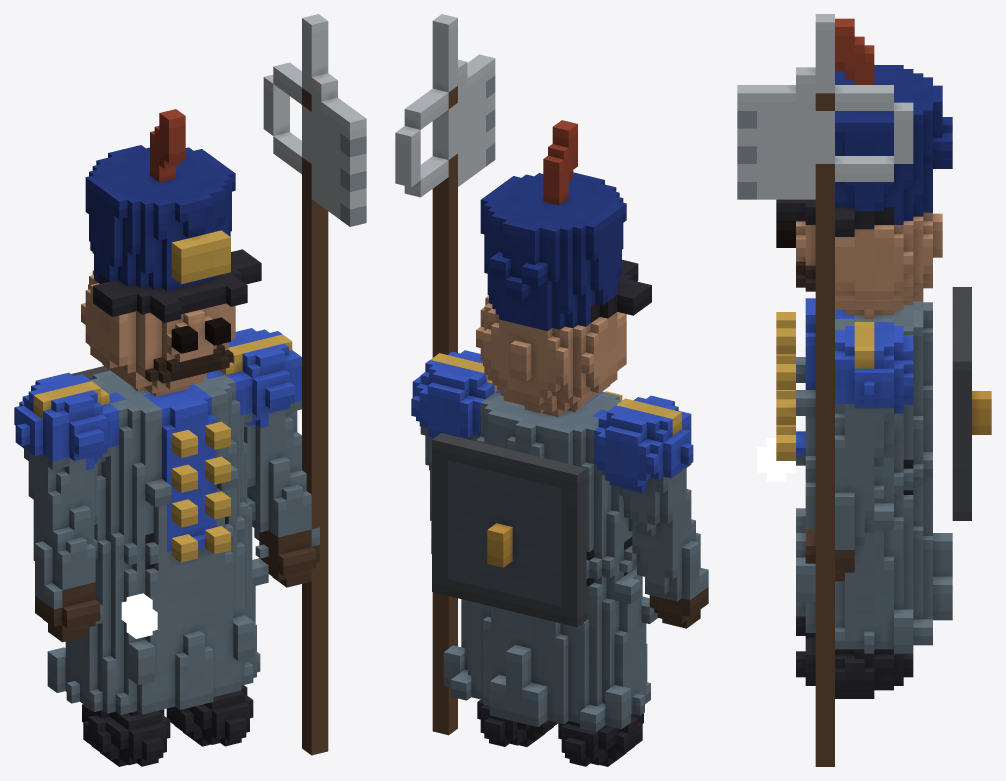
The model's file is u_garde__receleur.glb.
The picture shows the model from 3 angles, left to right: view 1: azimuth 30°, elevation 25°; view 2: azimuth 150°, elevation 25°; view 3: azimuth 270°, elevation 25°; orthographic projection. The views are drawn at different scales.
Visible parts, largest first — view 1: garde_body, garde_weapon, garde_glow; view 2: garde_body, garde_weapon; view 3: garde_body, garde_weapon, garde_glow.
Boxes of the visible parts, x1=… form: garde_body: x1=14, y1=109, x2=319, y2=766; garde_weapon: x1=263, y1=14, x2=366, y2=755; garde_glow: x1=121, y1=593, x2=157, y2=638; garde_body: x1=411, y1=120, x2=708, y2=766; garde_weapon: x1=395, y1=14, x2=495, y2=735; garde_body: x1=776, y1=18, x2=991, y2=698; garde_weapon: x1=737, y1=14, x2=913, y2=766; garde_glow: x1=757, y1=438, x2=795, y2=481.
Size of the model in its own units: 0.85 by 2.1 by 0.65.
